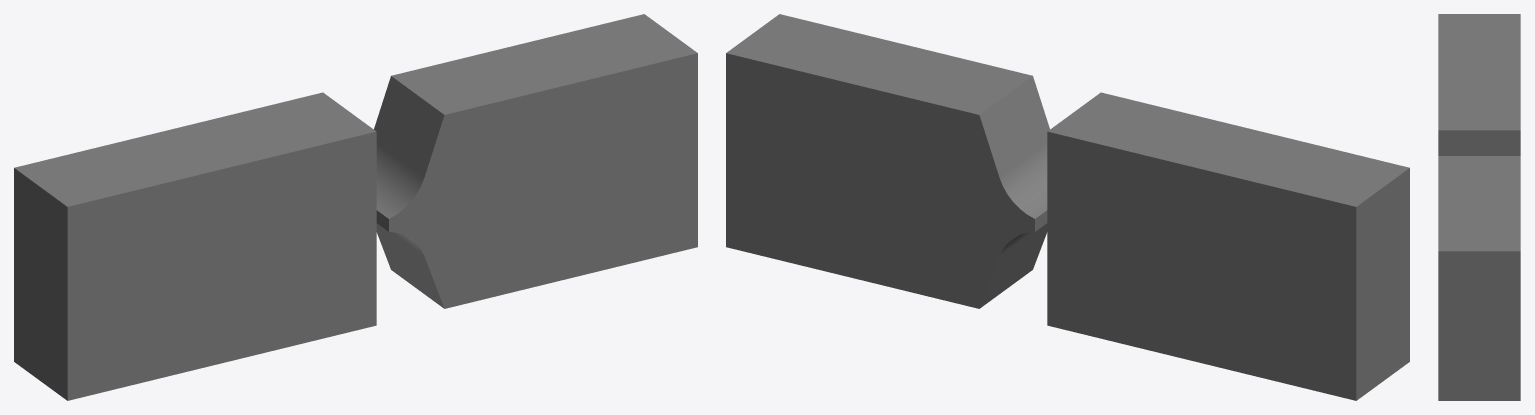
The model's file is С16_Кромки.glb.
3 renders of one model, left to right at view 1: azimuth 30°, elevation 25°; view 2: azimuth 150°, elevation 25°; view 3: azimuth 270°, elevation 25°, orthographic. The views are drawn at different scales.
Parts seen in each view (by area): view 1: node_id3; view 2: node_id3; view 3: node_id3.
Part boxes in pixels (<box>): node_id3: <box>14,14,697,400</box>; node_id3: <box>726,14,1409,400</box>; node_id3: <box>1438,14,1520,400</box>.
Bounding box in the file's own units: 0.512 × 0.1506 × 0.0753.
Materials: 1 (1 with a texture image).
